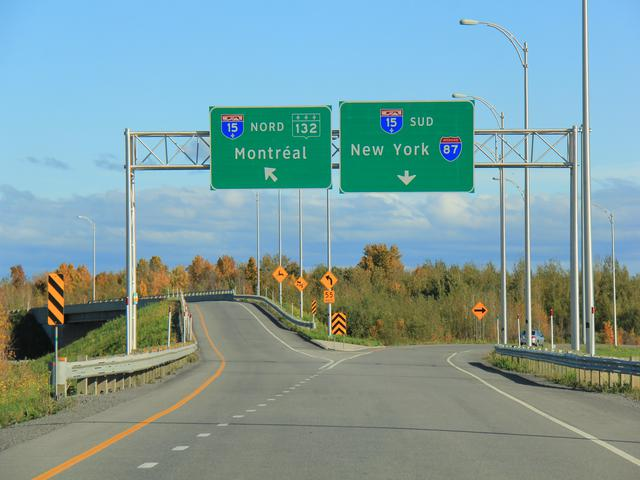autre: (340, 102, 476, 191), (211, 106, 332, 189)
